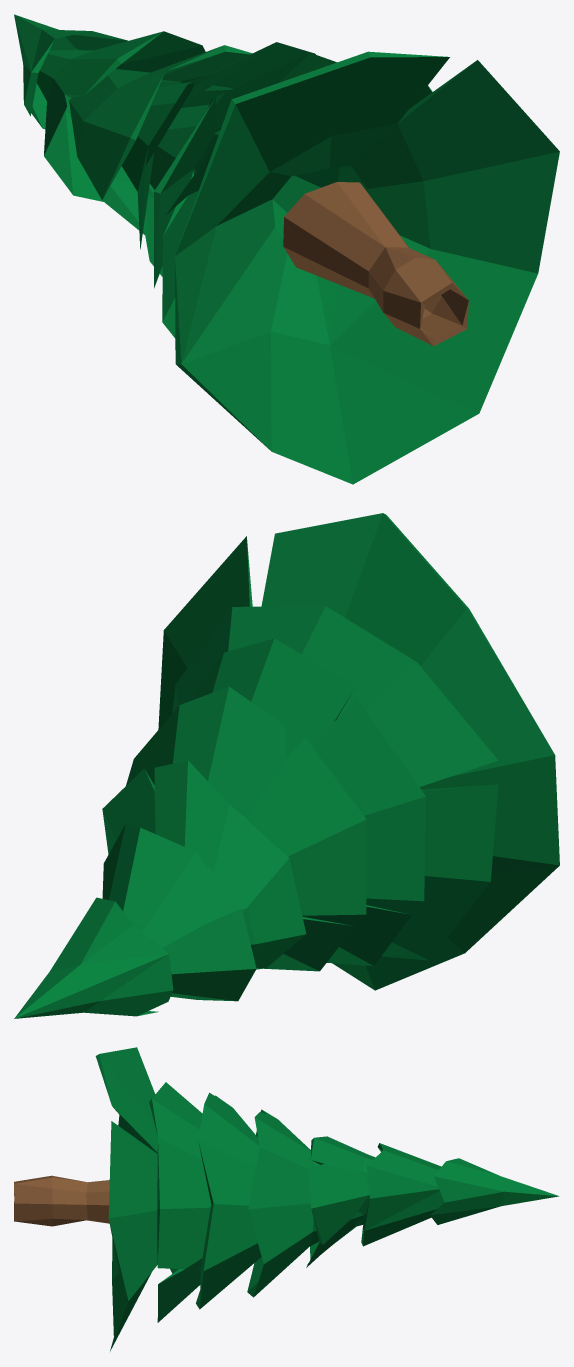
Rendered from Tree04.fbx.
3 renders of one model, top to bottom at view 1: azimuth 30°, elevation 25°; view 2: azimuth 150°, elevation 25°; view 3: azimuth 270°, elevation 25°, orthographic. The views are drawn at different scales.
Visible parts, largest first — view 1: Circle.006; view 2: Circle.006; view 3: Circle.006.
Boxes of the visible parts, bbox=[...] form: Circle.006: bbox=[14, 14, 559, 484]; Circle.006: bbox=[14, 513, 559, 1018]; Circle.006: bbox=[14, 1047, 559, 1351].
Size of the model in its own units: 173 by 192 by 328.
